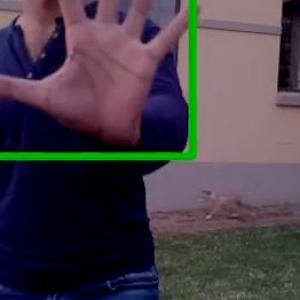follow_hand: (1, 0, 210, 154)
